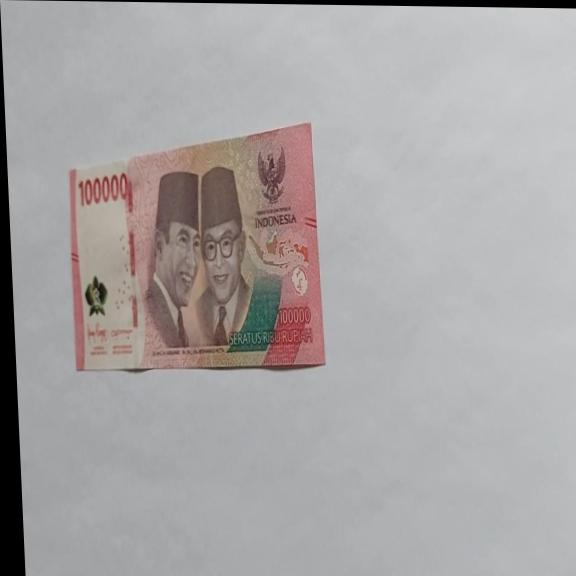Kertas: (64, 117, 326, 375)
